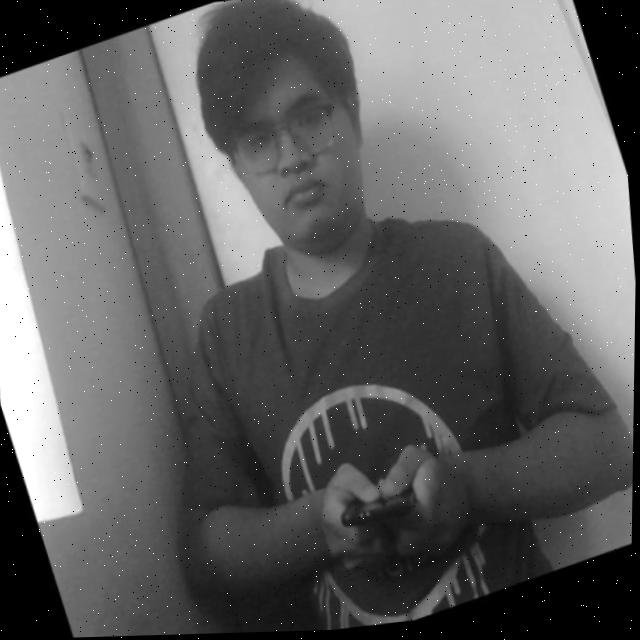phone: (323, 456, 449, 576)
